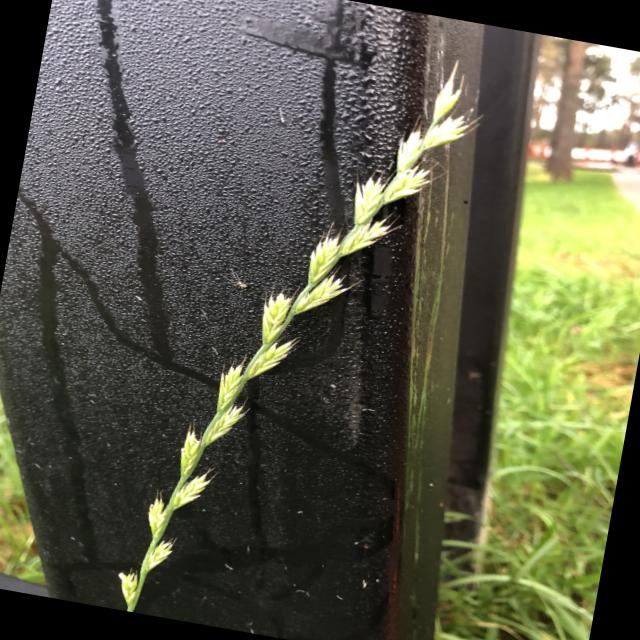Lolium: (109, 15, 495, 640)
